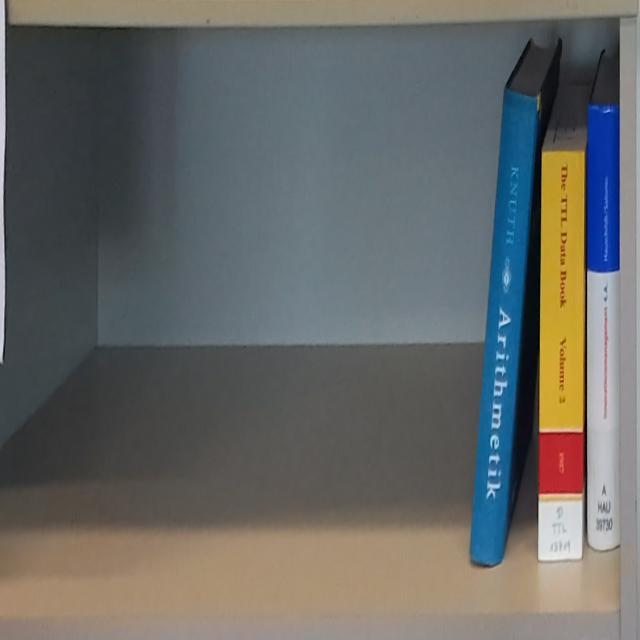Book Spine: (471, 89, 539, 569), (538, 151, 585, 562), (588, 105, 620, 551)
